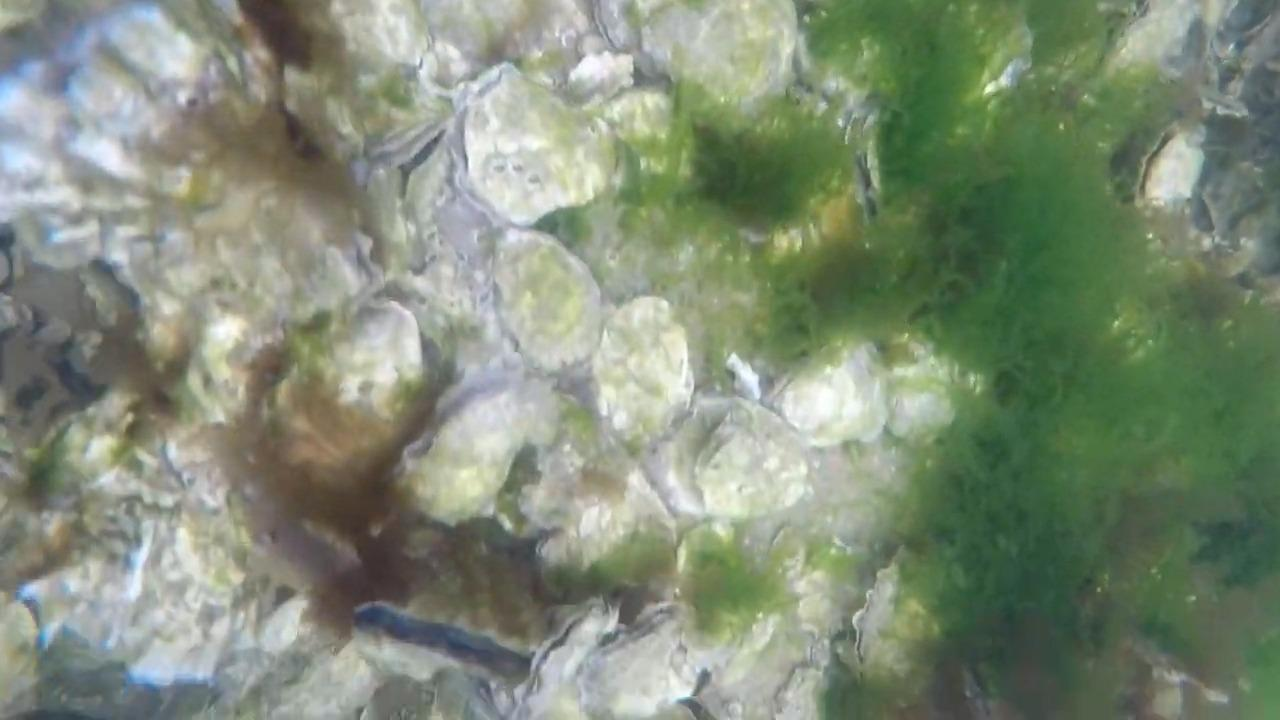Oyster: (11, 7, 226, 233), (176, 162, 379, 342), (404, 363, 557, 524), (464, 68, 616, 224), (649, 393, 814, 525), (693, 598, 835, 720), (646, 0, 803, 108), (533, 466, 676, 582), (311, 290, 432, 422), (2, 71, 105, 223), (499, 599, 630, 716), (494, 230, 602, 371), (591, 296, 693, 440), (390, 129, 492, 273), (771, 342, 902, 453), (571, 608, 703, 718), (81, 2, 212, 105), (415, 0, 554, 86), (187, 290, 280, 417), (322, 0, 440, 90), (259, 640, 390, 720), (1105, 2, 1207, 90), (876, 344, 961, 444), (355, 148, 421, 267), (845, 558, 906, 670), (1132, 123, 1208, 207), (593, 86, 678, 158), (560, 43, 639, 102), (0, 597, 43, 698), (586, 1, 648, 61), (254, 596, 309, 657)
